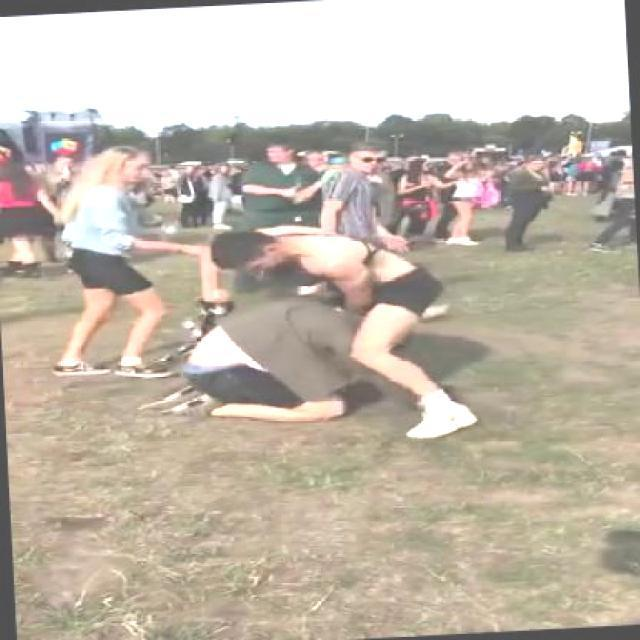fight: (146, 212, 480, 452)
non-fight: (45, 137, 170, 380)
